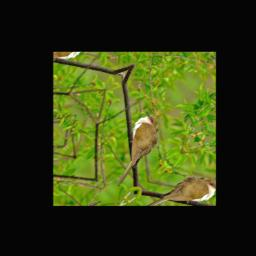Cuckoo: (91, 109, 176, 188)
